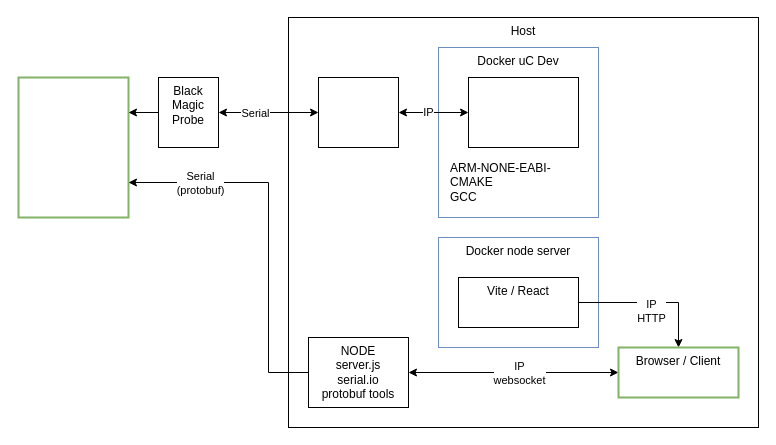
Image size: 776x445. Some labels were removed from this diagram. Here are the shapes that lost their labels. From the top down, the centre of each, then its label:
At (358,112): "STTY Netcat".
At (523,112): "GDB".
At (73,147): "uC FreeRTOS Application code".
